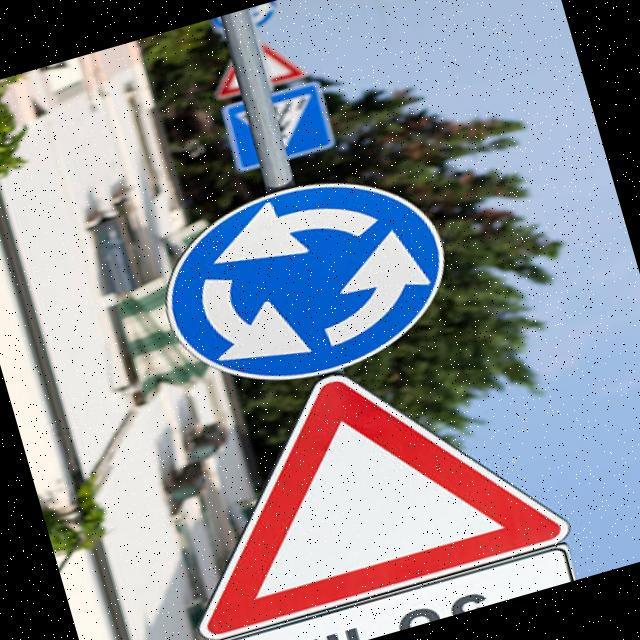round_about: (132, 142, 485, 416)
